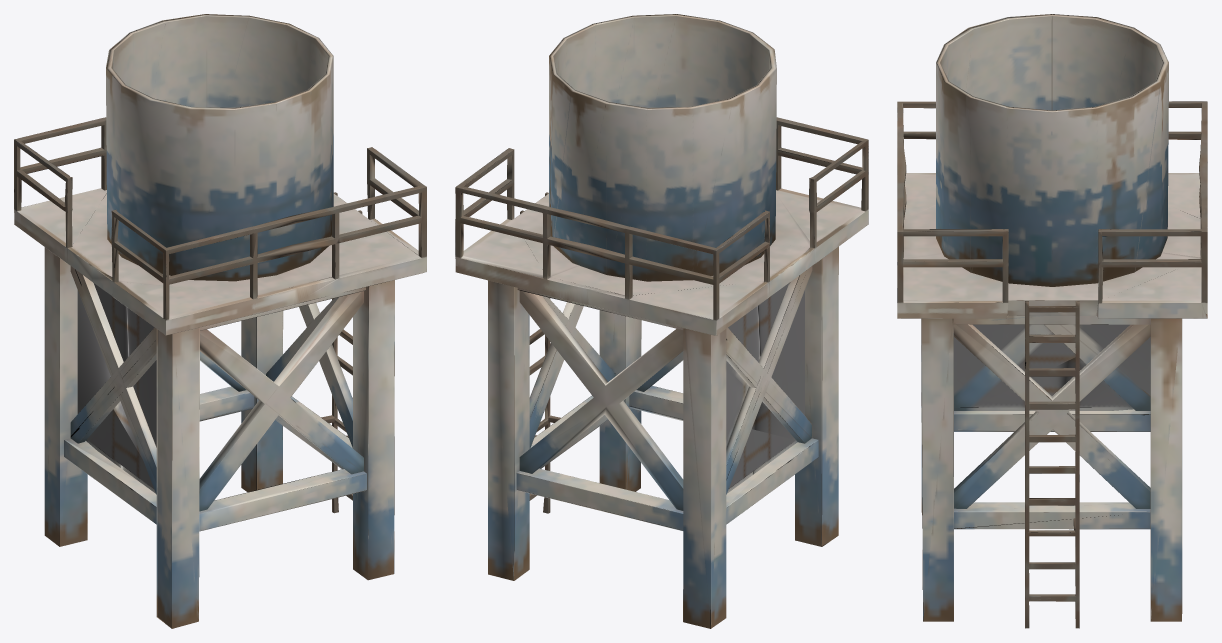
The model's file is caixa_dagua.glb.
The picture shows the model from 3 angles, left to right: view 1: azimuth 30°, elevation 25°; view 2: azimuth 150°, elevation 25°; view 3: azimuth 270°, elevation 25°; orthographic projection. The views are drawn at different scales.
Parts seen in each view (by area): view 1: geometry_0; view 2: geometry_0; view 3: geometry_0.
Boxes of the visible parts, x1,y1,x2,y2 form: geometry_0: (14, 14, 426, 628); geometry_0: (455, 14, 868, 628); geometry_0: (897, 14, 1207, 628).
Size of the model in its own units: 0.5303 by 0.9512 by 0.5312.
1 material, 1 textured.
